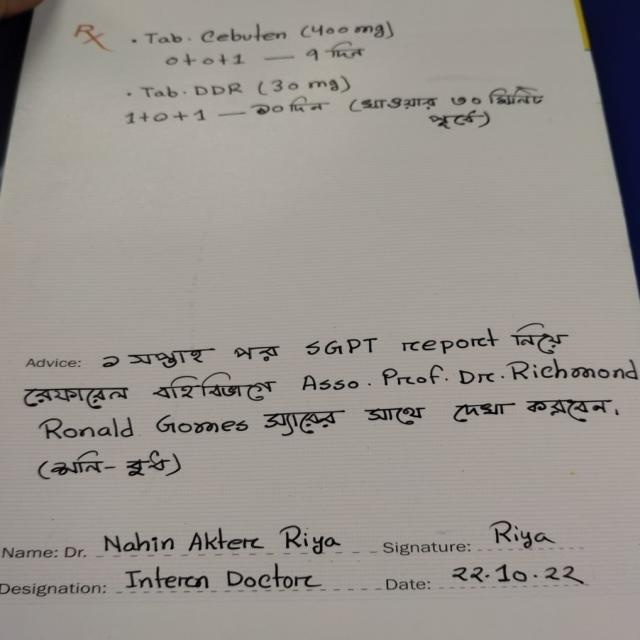Cebuten: (190, 19, 298, 51)
DDR: (187, 77, 249, 100)
